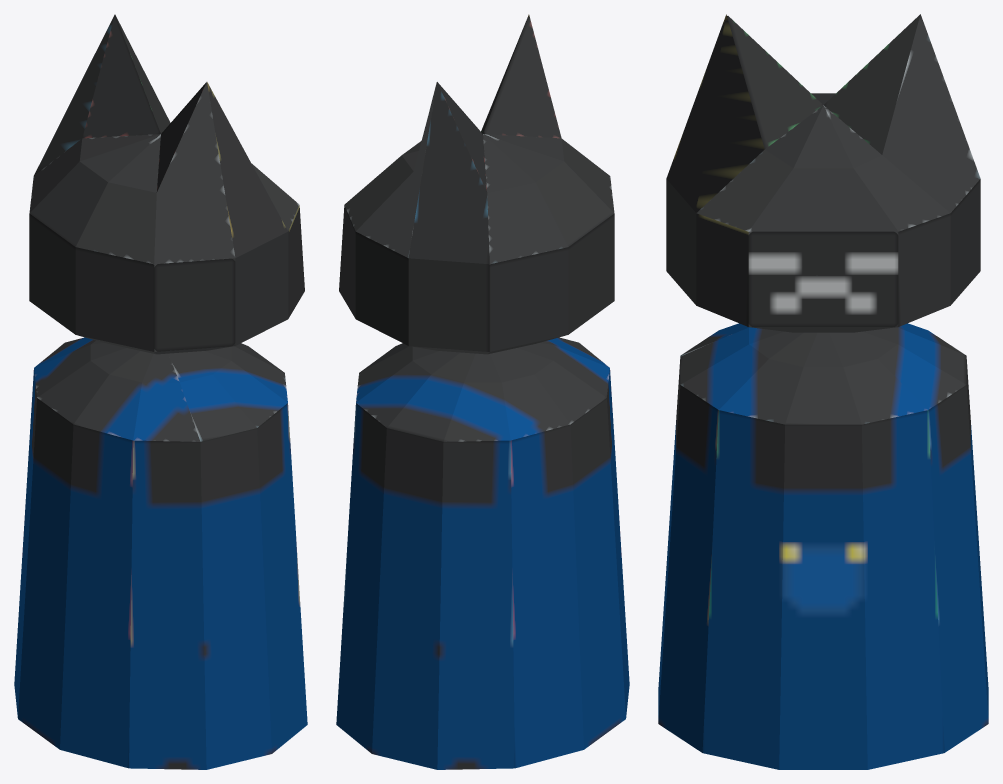
File: characterFBX.fbx
3 renders of one model, left to right at view 1: azimuth 30°, elevation 25°; view 2: azimuth 150°, elevation 25°; view 3: azimuth 270°, elevation 25°, orthographic. The views are drawn at different scales.
Visible parts, largest first — view 1: sphere, sphere_1; view 2: sphere, sphere_1; view 3: sphere, sphere_1.
Part boxes in pixels (bbox=[...]): sphere: bbox=[14, 337, 307, 769]; sphere_1: bbox=[29, 14, 304, 354]; sphere: bbox=[336, 337, 629, 769]; sphere_1: bbox=[339, 14, 614, 354]; sphere: bbox=[658, 323, 988, 769]; sphere_1: bbox=[666, 14, 980, 332].
Bounding box in the file's own units: 84.38 × 217 × 93.75.
Materials: 1 (1 with a texture image).
